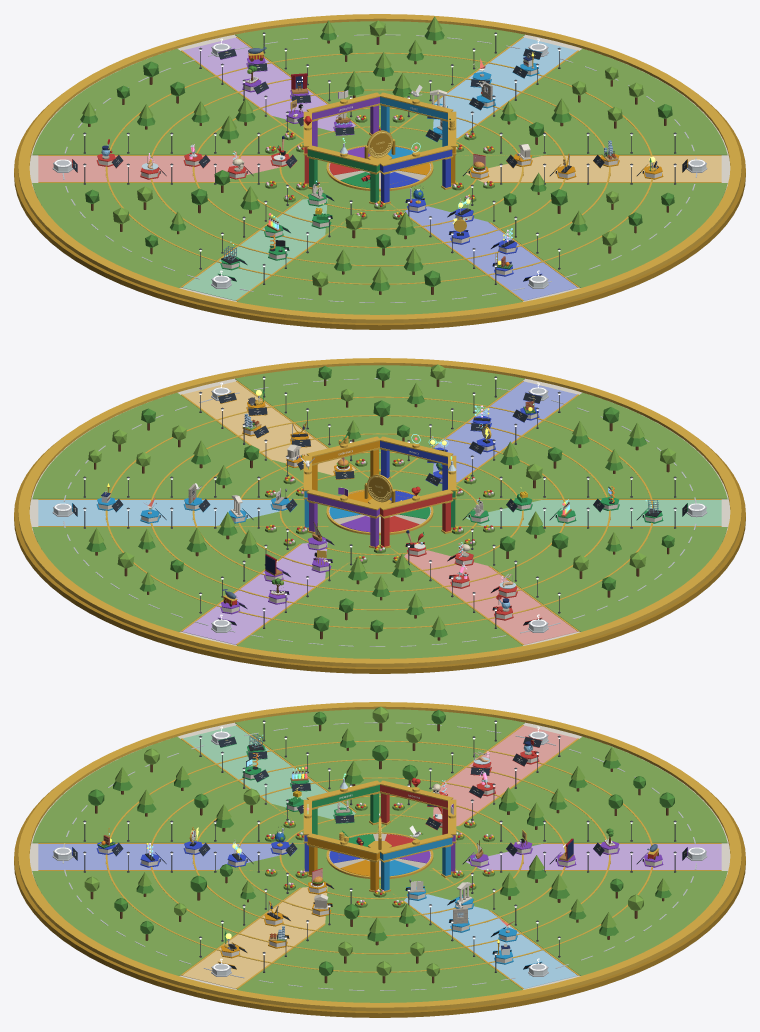
The model's file is nobel-hall.glb.
The picture shows the model from 3 angles, top to bottom: view 1: azimuth 30°, elevation 25°; view 2: azimuth 150°, elevation 25°; view 3: azimuth 270°, elevation 25°; orthographic projection.
Parts seen in each view (by area): view 1: MERGED_NH_grass, MERGED_NH_gold, MERGED_NH_gold_d, MERGED_NH_leaf, MERGED_NH_leaf2, MERGED_NH_wl_physics, MERGED_NH_wl_chemistry, MERGED_NH_wl_economics, MERGED_NH_wl_medicine, MERGED_NH_wl_peace, MERGED_NH_wl_literature, MERGED_NH_marble (+12 smaller); view 2: MERGED_NH_grass, MERGED_NH_gold, MERGED_NH_gold_d, MERGED_NH_leaf, MERGED_NH_leaf2, MERGED_NH_wl_medicine, MERGED_NH_wl_literature, MERGED_NH_wl_chemistry, MERGED_NH_wl_peace, MERGED_NH_wl_physics, MERGED_NH_wl_economics, MERGED_NH_marble (+12 smaller); view 3: MERGED_NH_grass, MERGED_NH_gold, MERGED_NH_gold_d, MERGED_NH_leaf, MERGED_NH_leaf2, MERGED_NH_wl_peace, MERGED_NH_wl_economics, MERGED_NH_wl_physics, MERGED_NH_wl_literature, MERGED_NH_wl_medicine, MERGED_NH_wl_chemistry, MERGED_NH_marble (+12 smaller).
Boxes of the visible parts, x1,y1,x2,y2 form: MERGED_NH_grass: (32, 21, 727, 314); MERGED_NH_gold: (18, 14, 741, 323); MERGED_NH_gold_d: (14, 93, 745, 329); MERGED_NH_leaf: (80, 31, 674, 291); MERGED_NH_leaf2: (82, 16, 643, 287); MERGED_NH_wl_physics: (404, 206, 577, 300); MERGED_NH_wl_chemistry: (182, 198, 327, 300); MERGED_NH_wl_economics: (466, 156, 721, 181); MERGED_NH_wl_medicine: (38, 156, 292, 181); MERGED_NH_wl_peace: (432, 37, 577, 139); MERGED_NH_wl_literature: (182, 37, 355, 133); MERGED_NH_marble: (29, 34, 730, 301); MERGED_NH_grass: (32, 365, 727, 658); MERGED_NH_gold: (18, 358, 741, 667); MERGED_NH_gold_d: (14, 410, 745, 673); MERGED_NH_leaf: (86, 366, 674, 637); MERGED_NH_leaf2: (88, 364, 676, 629); MERGED_NH_wl_medicine: (404, 550, 577, 644); MERGED_NH_wl_literature: (182, 542, 327, 644); MERGED_NH_wl_chemistry: (466, 500, 721, 525); MERGED_NH_wl_peace: (38, 500, 293, 525); MERGED_NH_wl_physics: (430, 381, 577, 483); MERGED_NH_wl_economics: (182, 381, 355, 475); MERGED_NH_marble: (29, 378, 730, 645); MERGED_NH_grass: (32, 709, 727, 1002); MERGED_NH_gold: (18, 702, 741, 1011); MERGED_NH_gold_d: (14, 754, 745, 1017); MERGED_NH_leaf: (88, 710, 674, 976); MERGED_NH_leaf2: (84, 706, 669, 976); MERGED_NH_wl_peace: (404, 894, 577, 988); MERGED_NH_wl_economics: (182, 886, 327, 988); MERGED_NH_wl_physics: (38, 844, 294, 869); MERGED_NH_wl_literature: (466, 844, 721, 869); MERGED_NH_wl_medicine: (430, 725, 577, 827); MERGED_NH_wl_chemistry: (182, 725, 355, 821); MERGED_NH_marble: (29, 722, 730, 989).
Size of what is drawn, in the model's own units: 118 by 11.28 by 118.
